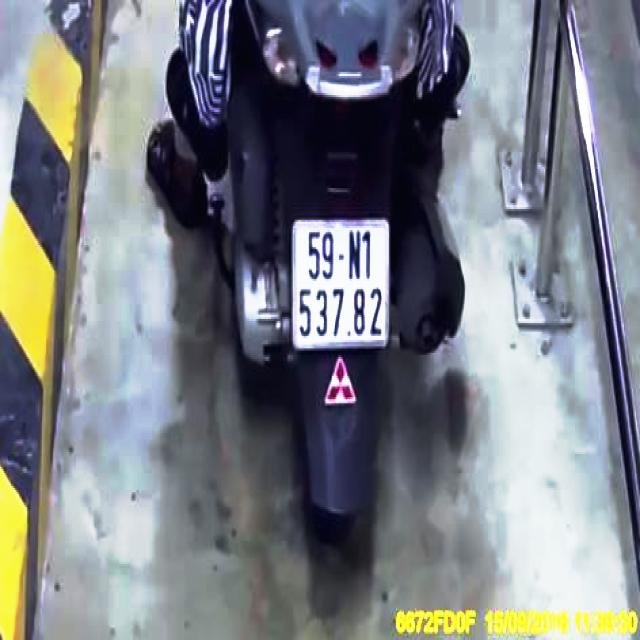license_plate: (296, 221, 388, 345)
